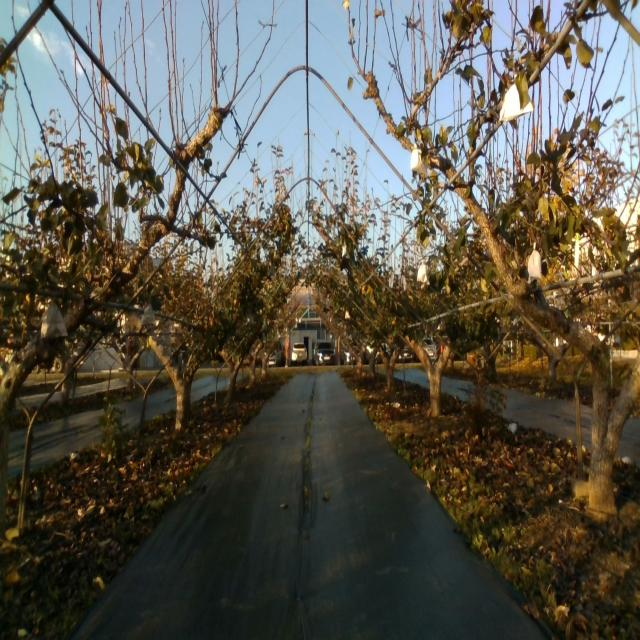pearbags: (499, 81, 533, 122), (41, 301, 68, 341), (410, 142, 429, 177), (527, 242, 542, 284), (142, 304, 156, 332), (417, 258, 430, 286)
